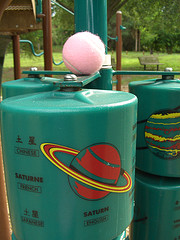tennis ball: (61, 31, 106, 75)
